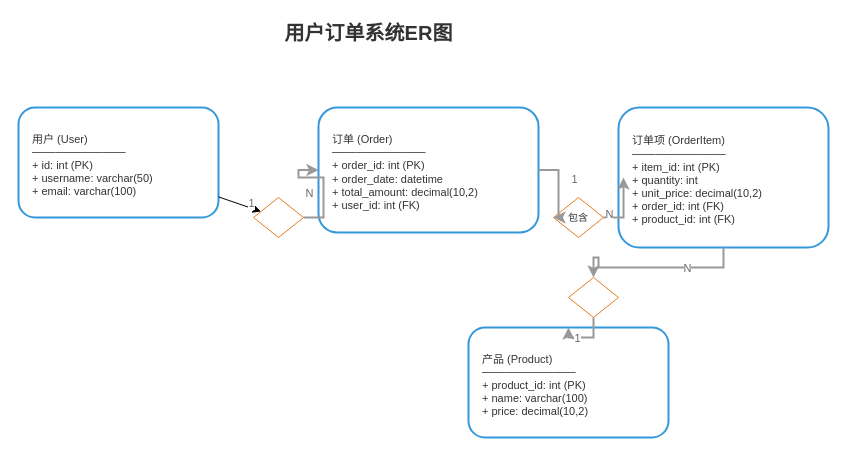
This 846x455 diagram has some shape labels left out. Each missing label, with the box of its shape:
下单: (252, 196, 304, 238)
关联: (568, 276, 618, 318)
